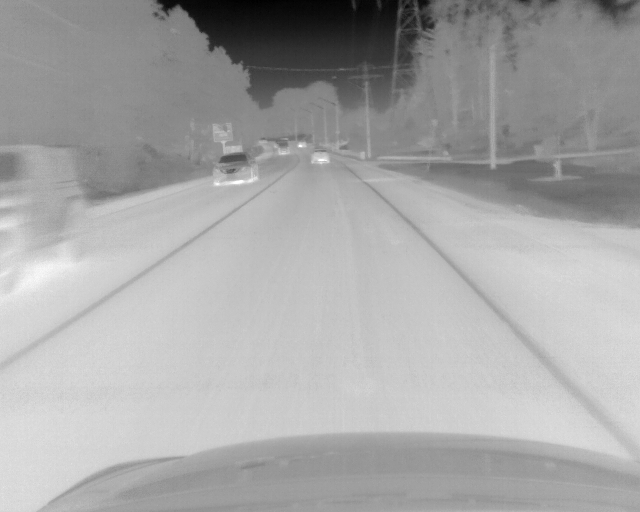car: (1, 142, 97, 297), (212, 152, 258, 186), (310, 148, 330, 166), (273, 138, 291, 156), (297, 139, 307, 150)
